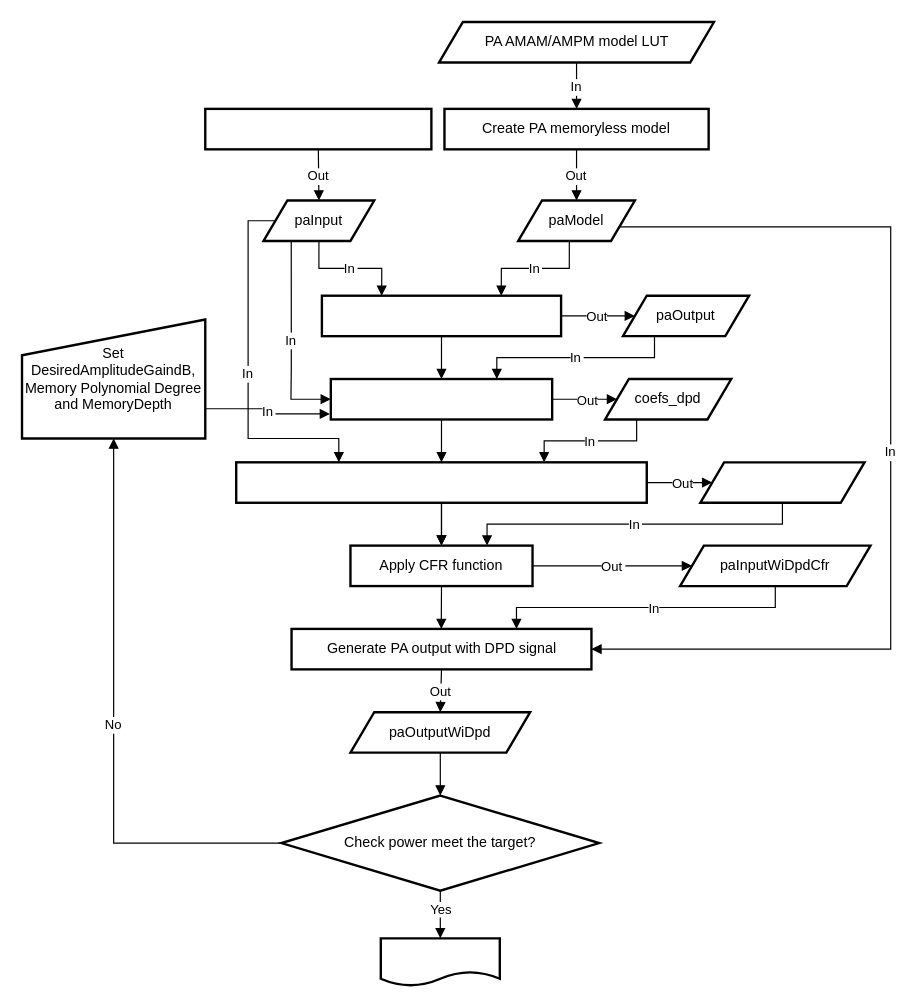
Image size: 921x1007. Some labels were removed from this diagram. The centre of each missing label's shape, as x and y in pixels:
"Export EVM and ACLR" belongs at (439,962).
"Generate DPD coefficients" belongs at (441,398).
"Generate PA input signal" belongs at (317,128).
"Generate PA input with DPD pre-distortion signal" belongs at (440,482).
"Generate PA output signal" belongs at (441,315).
"paInputWiDpd" belongs at (782,482).
